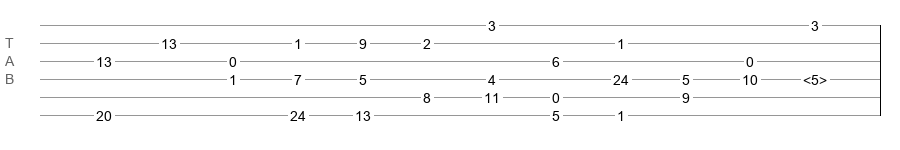0: (229, 54, 237, 64), (552, 90, 560, 100), (746, 54, 754, 64)
1: (229, 72, 237, 82), (294, 36, 302, 46), (617, 108, 625, 118), (617, 36, 625, 46)
10: (742, 72, 758, 82)
11: (484, 90, 500, 100)
13: (96, 54, 112, 64), (161, 36, 177, 46), (355, 108, 371, 118)
2: (423, 36, 431, 46)
20: (96, 108, 112, 118)
24: (290, 108, 306, 118), (613, 72, 629, 82)
3: (488, 18, 496, 28), (811, 18, 819, 28)
4: (488, 72, 496, 82)
5: (359, 72, 367, 82), (552, 108, 560, 118), (682, 72, 690, 82)
6: (552, 54, 560, 64)
7: (294, 72, 302, 82)
8: (423, 90, 431, 100)
9: (359, 36, 367, 46), (682, 90, 690, 100)
harmonic: (803, 72, 827, 82)
